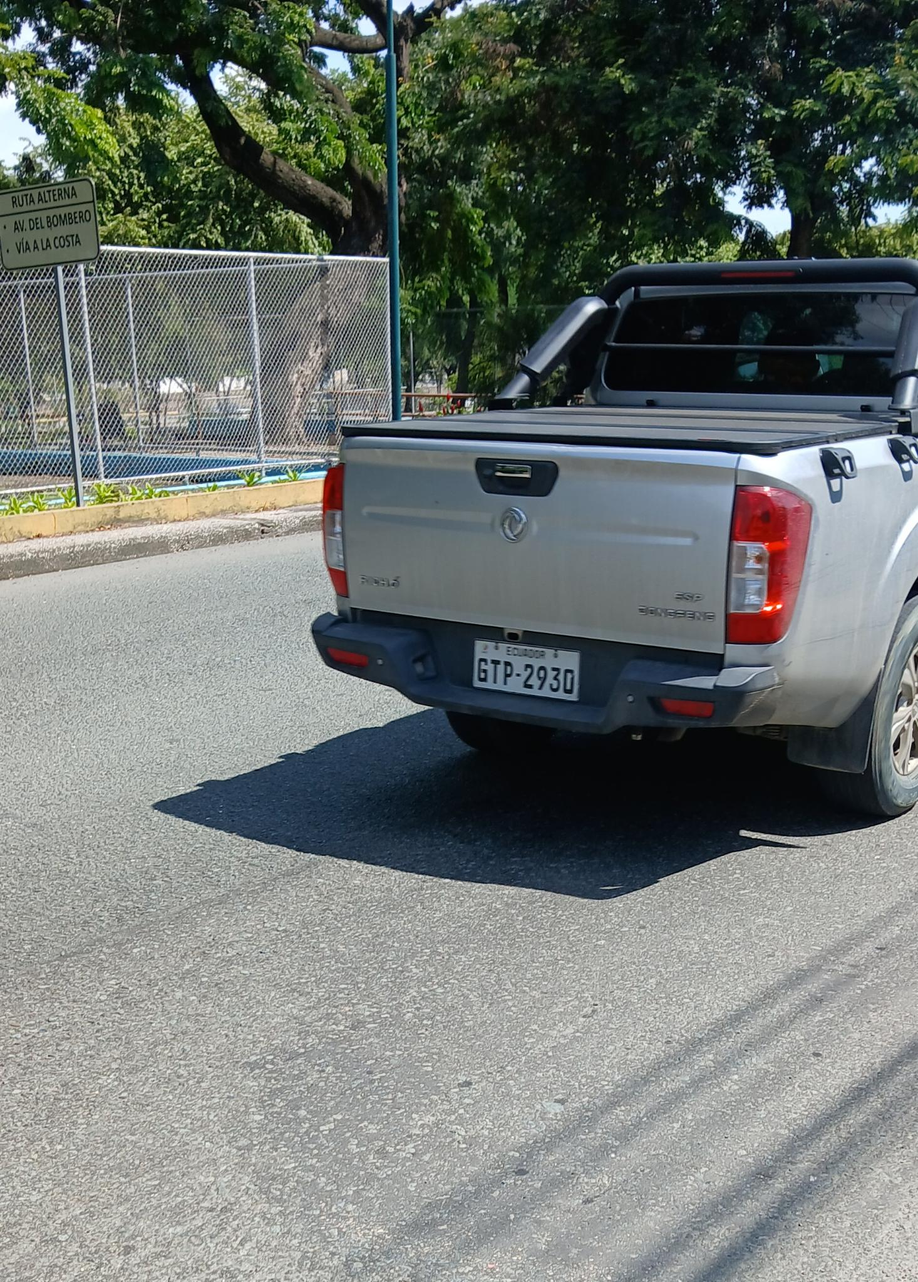license_plate: (473, 639, 583, 699)
